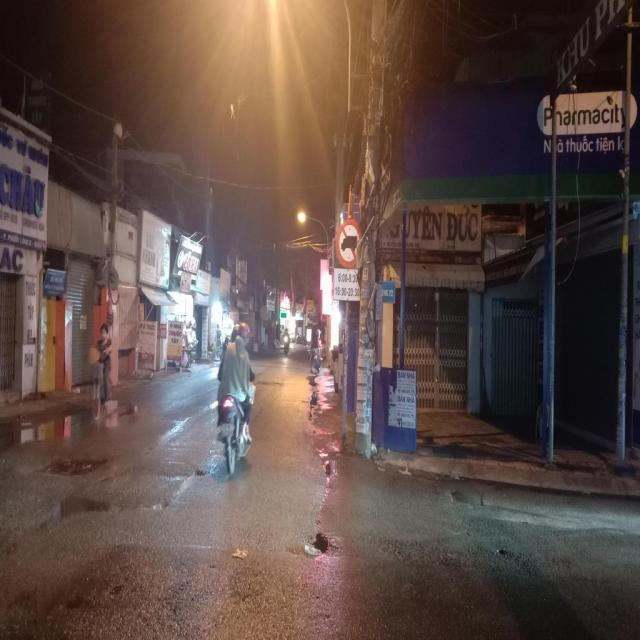cam_o_to_tai: (335, 216, 363, 268)
khac: (334, 266, 360, 298)
